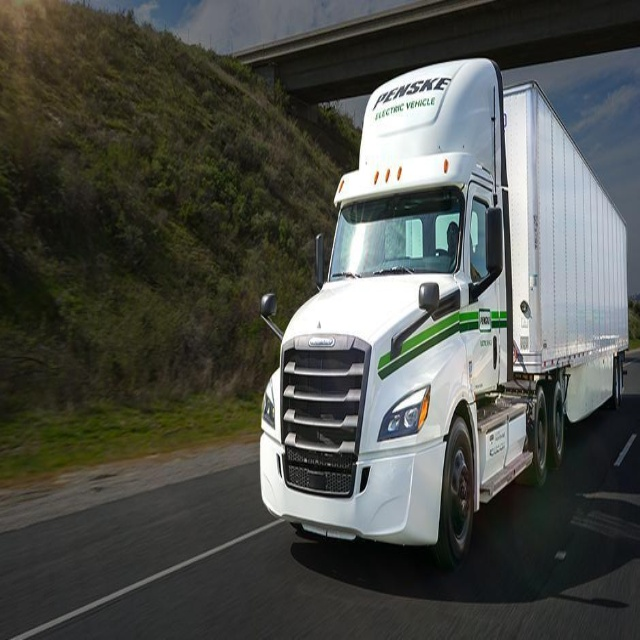Truck: (259, 56, 628, 571)
